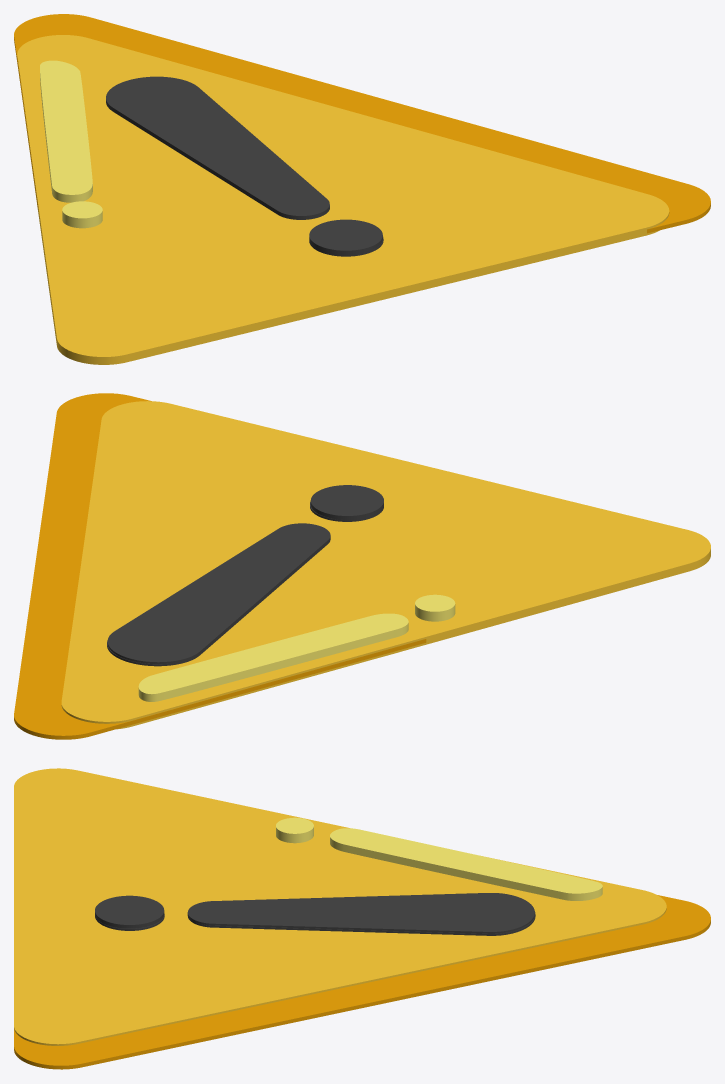
The model's file is emoji_u26a0.glb.
The picture shows the model from 3 angles, top to bottom: view 1: azimuth 30°, elevation 25°; view 2: azimuth 150°, elevation 25°; view 3: azimuth 270°, elevation 25°; orthographic projection. The views are drawn at different scales.
Parts seen in each view (by area): view 1: emoji_u26a0; view 2: emoji_u26a0; view 3: emoji_u26a0.
Part boxes in pixels (box(x1,y1,x2,y2)): emoji_u26a0: box(14, 14, 710, 364); emoji_u26a0: box(14, 393, 710, 739); emoji_u26a0: box(14, 768, 710, 1069).
Size of the model in its own units: 0.034 by 0.0014 by 0.0339.
